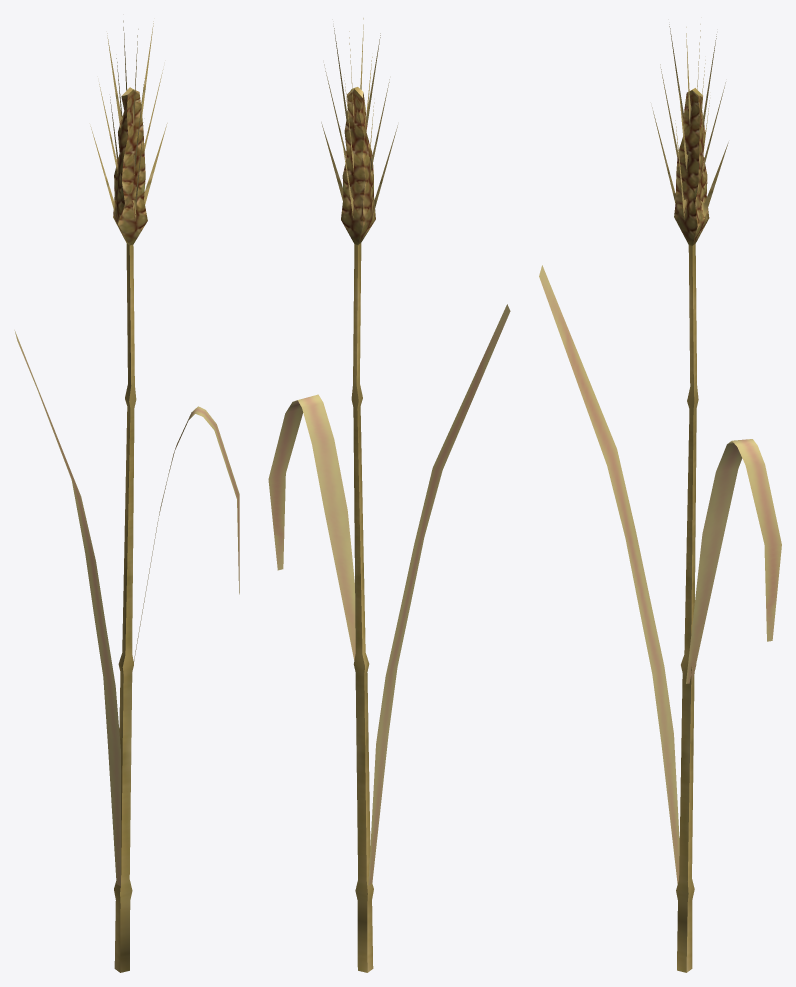
The model's file is wheatFour.glb.
3 renders of one model, left to right at view 1: azimuth 30°, elevation 25°; view 2: azimuth 150°, elevation 25°; view 3: azimuth 330°, elevation 25°, orthographic.
Parts seen in each view (by area): view 1: Plane_wheat texture_0; view 2: Plane_wheat texture_0; view 3: Plane_wheat texture_0.
Part boxes in pixels (x1=…): Plane_wheat texture_0: x1=14, y1=20, x2=239, y2=972; Plane_wheat texture_0: x1=268, y1=18, x2=510, y2=972; Plane_wheat texture_0: x1=539, y1=24, x2=781, y2=972.
Size of the model in its own units: 7.11 by 27.74 by 2.09.
Materials: 1 (1 with a texture image).
